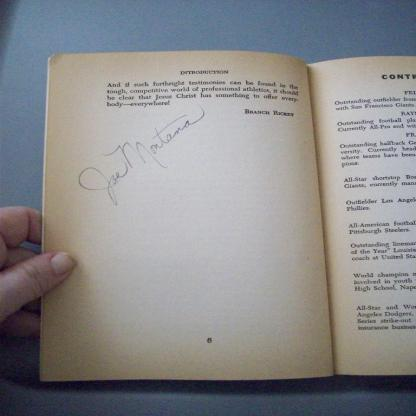book: (47, 33, 400, 374)
